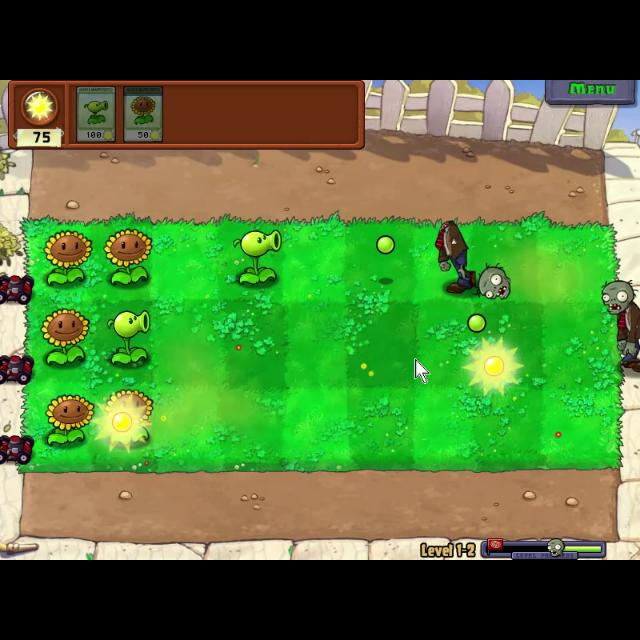Garden: (16, 213, 624, 475)
Menu Button: (545, 80, 637, 106)
Mower: (1, 271, 36, 305), (1, 431, 36, 465), (0, 353, 34, 385)
Peashooter: (74, 83, 118, 145)
Peashooter Seed: (231, 228, 287, 284), (102, 307, 152, 365)
Seed Panel: (5, 80, 368, 152)
Sun: (462, 334, 524, 400), (90, 395, 152, 453)
Sunflower: (120, 82, 163, 144)
Sunflower Seed: (38, 221, 90, 285), (104, 225, 152, 288), (44, 392, 96, 448), (104, 389, 156, 445), (42, 308, 88, 364)
Zombie: (428, 219, 482, 299), (594, 275, 640, 365)
